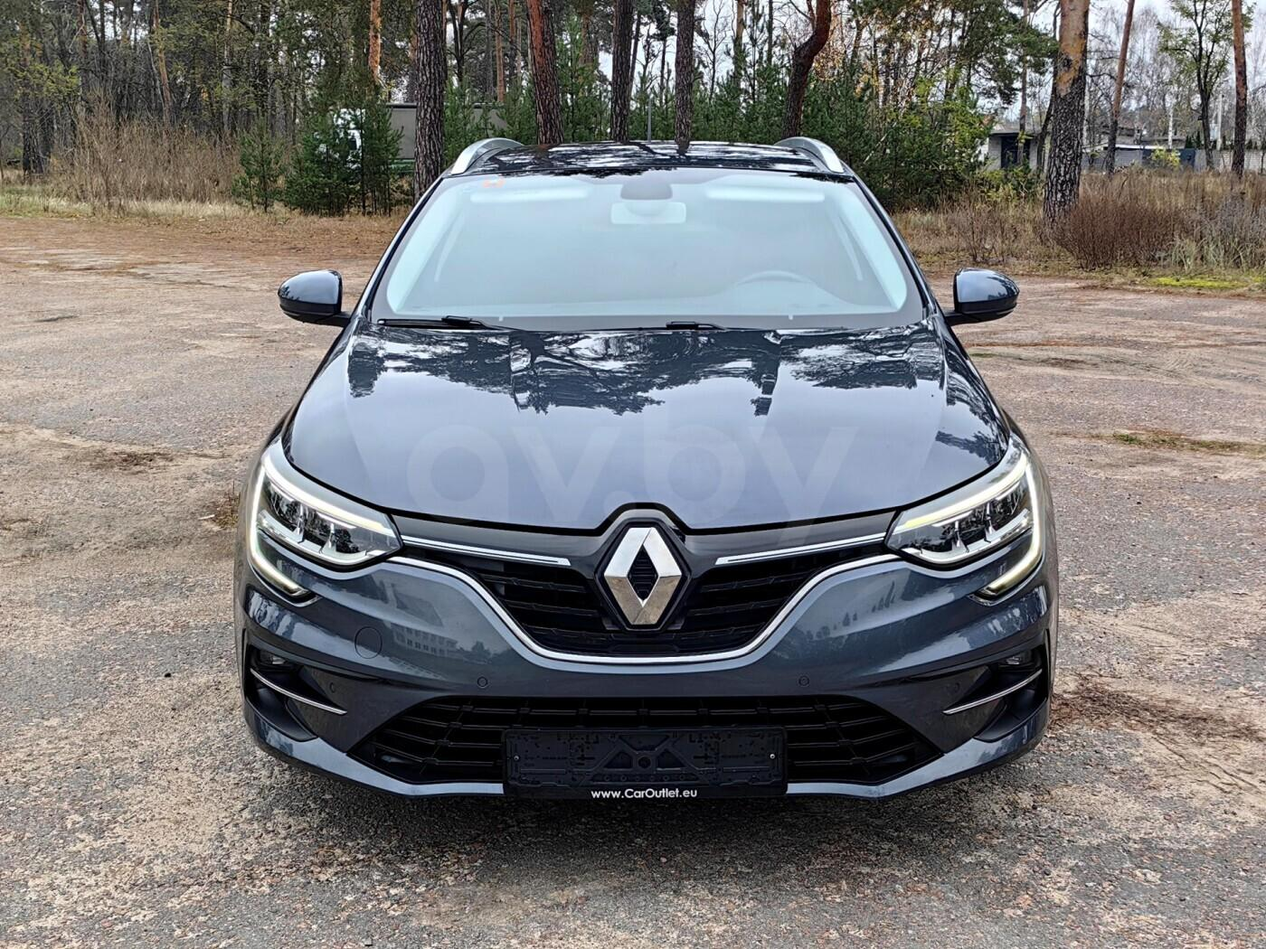Megane_2020: (230, 129, 1062, 813)
